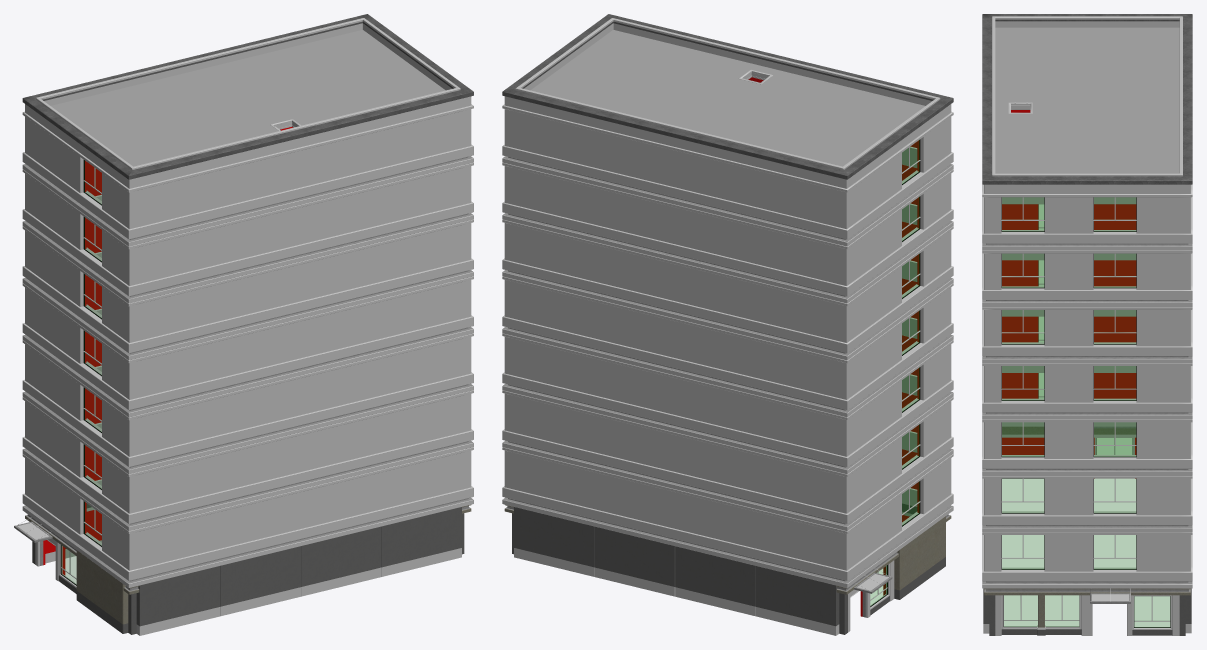
File: SM_Building24_V3.fbx
3 views of the same model, side by side, from view 1: azimuth 30°, elevation 25°; view 2: azimuth 150°, elevation 25°; view 3: azimuth 270°, elevation 25° (orthographic).
Parts seen in each view (by area): view 1: SM_Building24_V3; view 2: SM_Building24_V3; view 3: SM_Building24_V3.
Boxes of the visible parts, box(x1,y1,x2,y2) form: SM_Building24_V3: box(14, 14, 473, 635); SM_Building24_V3: box(502, 14, 953, 635); SM_Building24_V3: box(982, 14, 1192, 635).
Size of the model in its own units: 2816 by 3311 by 1372.
